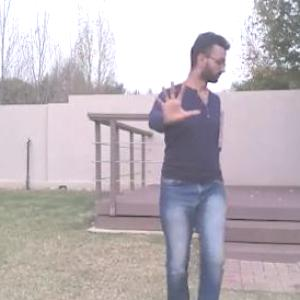follow_hand: (150, 73, 201, 126)
